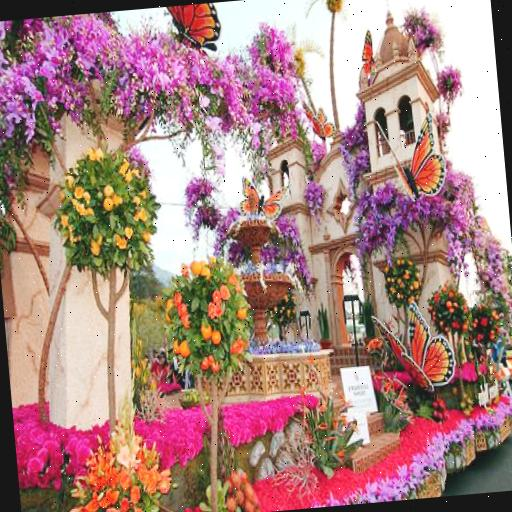sunflower: (54, 148, 164, 261)
